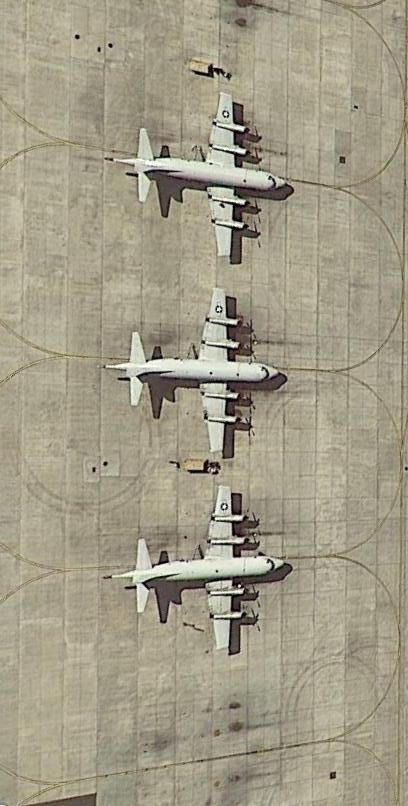P-3C: (102, 285, 286, 455), (114, 486, 287, 655), (132, 93, 298, 263)
